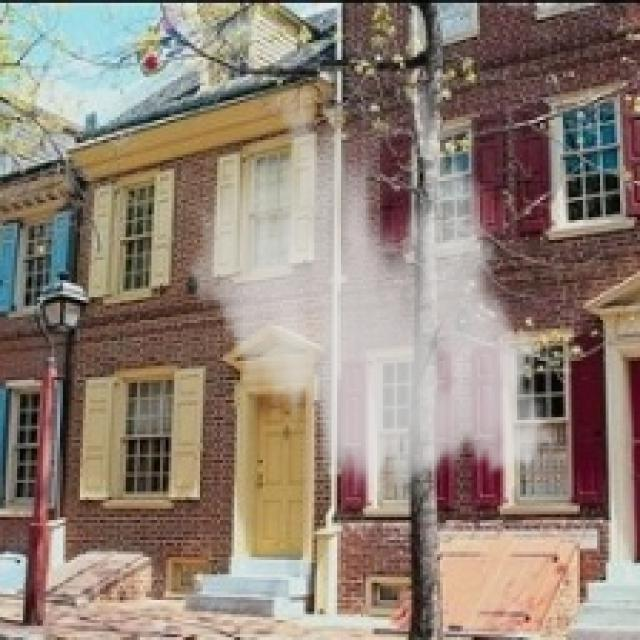Smoke: (177, 88, 566, 506)
